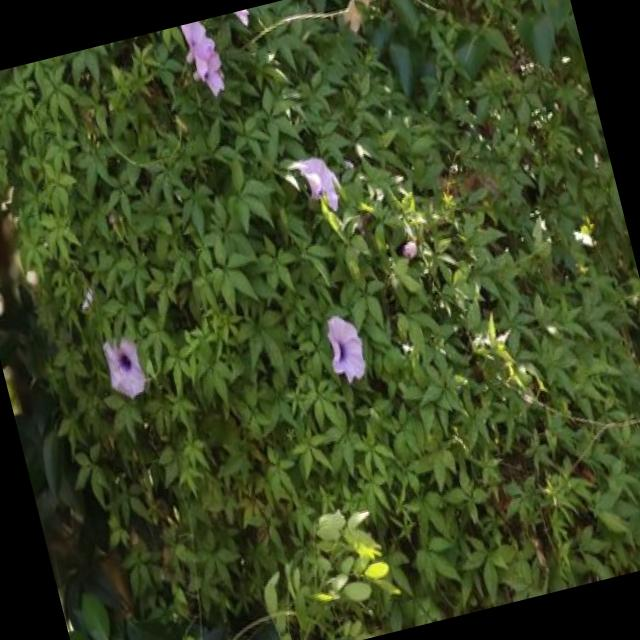ipomoea: (283, 144, 350, 225), (174, 17, 234, 107), (316, 304, 375, 392), (95, 328, 153, 408)
